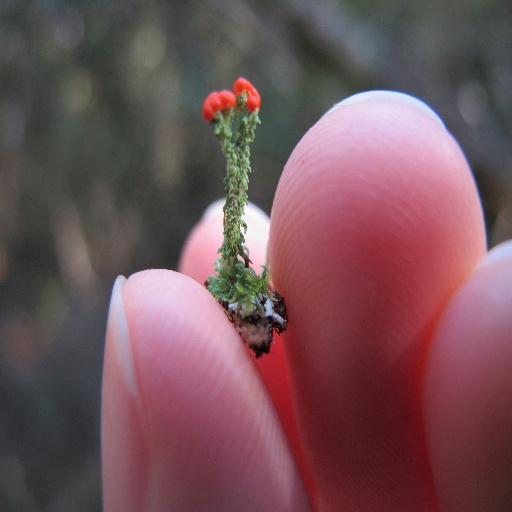hand: (96, 86, 511, 511)
